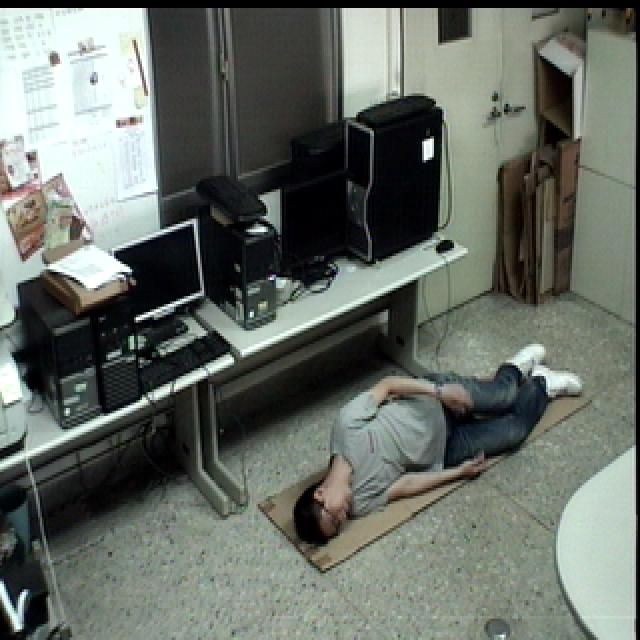lie: (288, 329, 594, 563)
